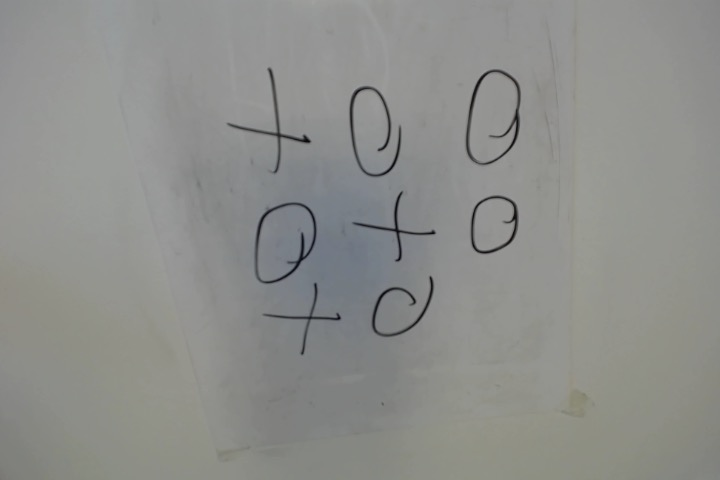0: (459, 66, 526, 168), (252, 201, 318, 285), (347, 85, 404, 177), (370, 275, 437, 347), (470, 194, 521, 260)
x: (232, 71, 308, 172), (260, 290, 345, 360), (350, 189, 431, 258)
